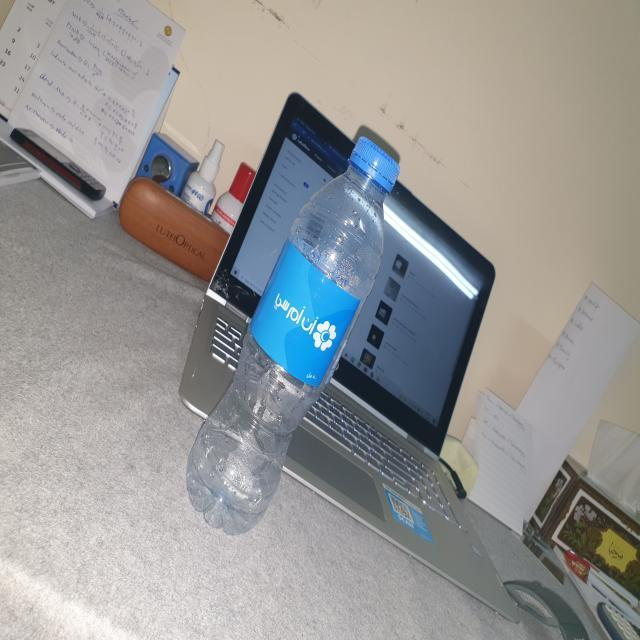plastic: (184, 132, 398, 541)
